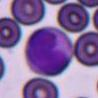M: (24, 26, 74, 76)
